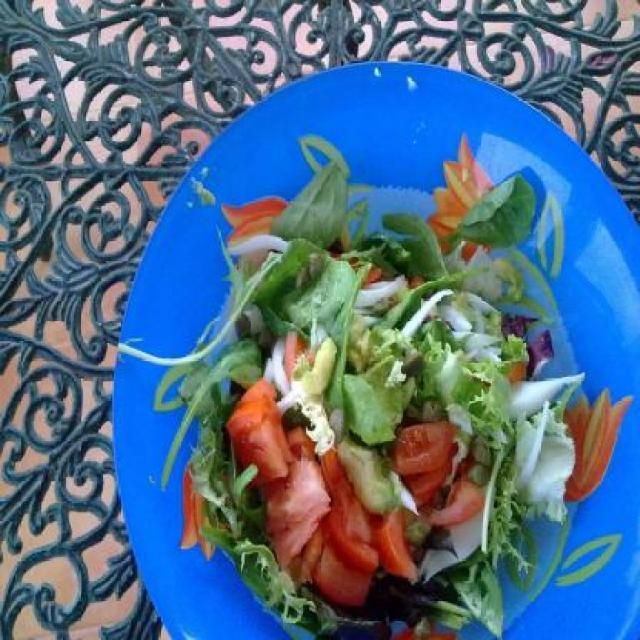Salad: (118, 130, 587, 639)
